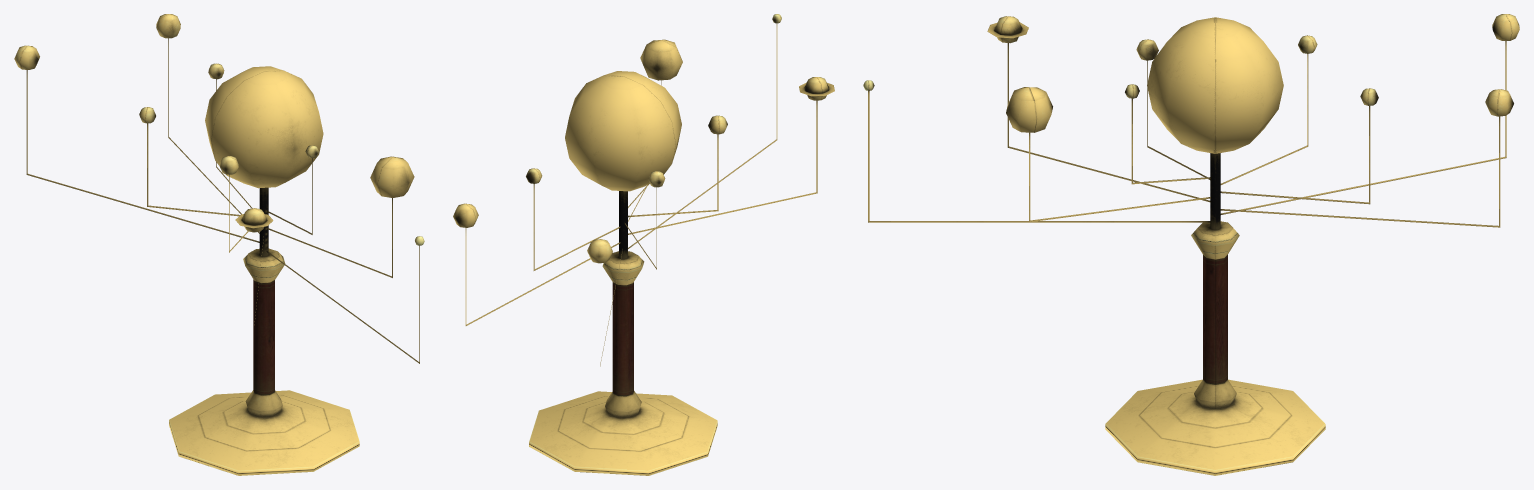
File: PropAstro03.fbx
The picture shows the model from 3 angles, left to right: view 1: azimuth 30°, elevation 25°; view 2: azimuth 150°, elevation 25°; view 3: azimuth 270°, elevation 25°; orthographic projection. The views are drawn at different scales.
Parts seen in each view (by area): view 1: PropAstro03; view 2: PropAstro03; view 3: PropAstro03.
Part boxes in pixels (x1,y1,x2,y2): PropAstro03: [14, 14, 424, 475]; PropAstro03: [453, 14, 834, 475]; PropAstro03: [863, 14, 1519, 475].
Bounding box in the file's own units: 2.82 × 4.79 × 7.03.
Materials: 1 (1 with a texture image).
